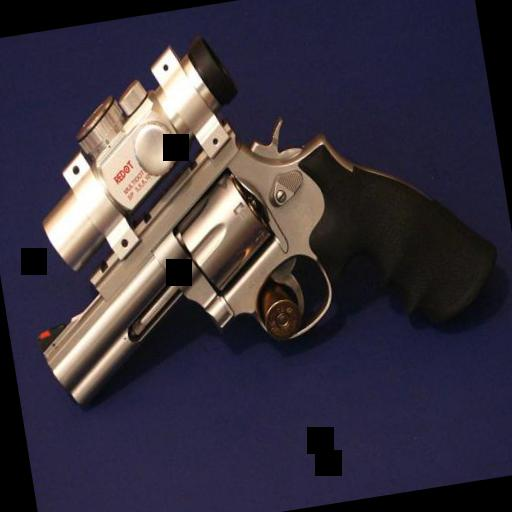Handgun: (0, 0, 512, 434)
